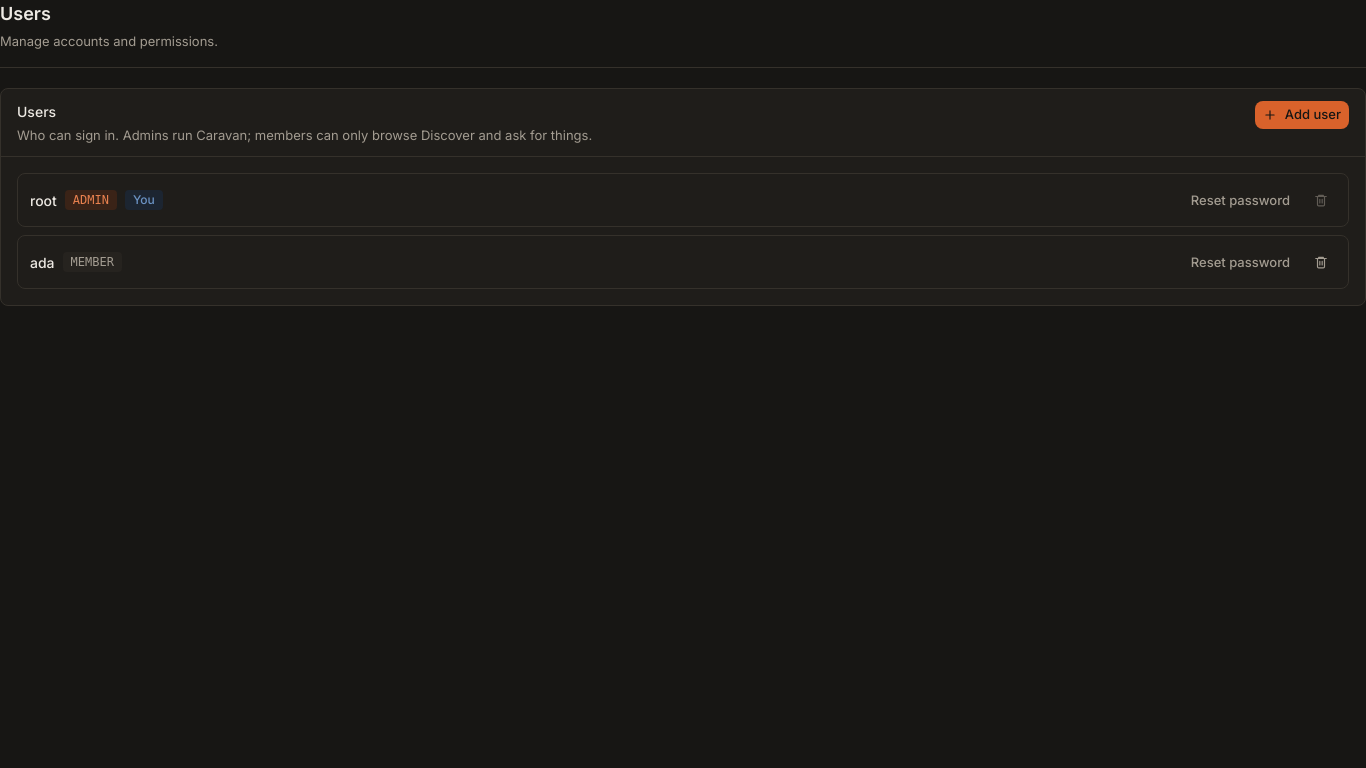
Scenario: Users settings › creates an account with a username, a password and a role
The width and height of the screenshot is (1366, 768).
Click the button "Add user" at (1302, 115), box left=1255, top=101, right=1349, bottom=129
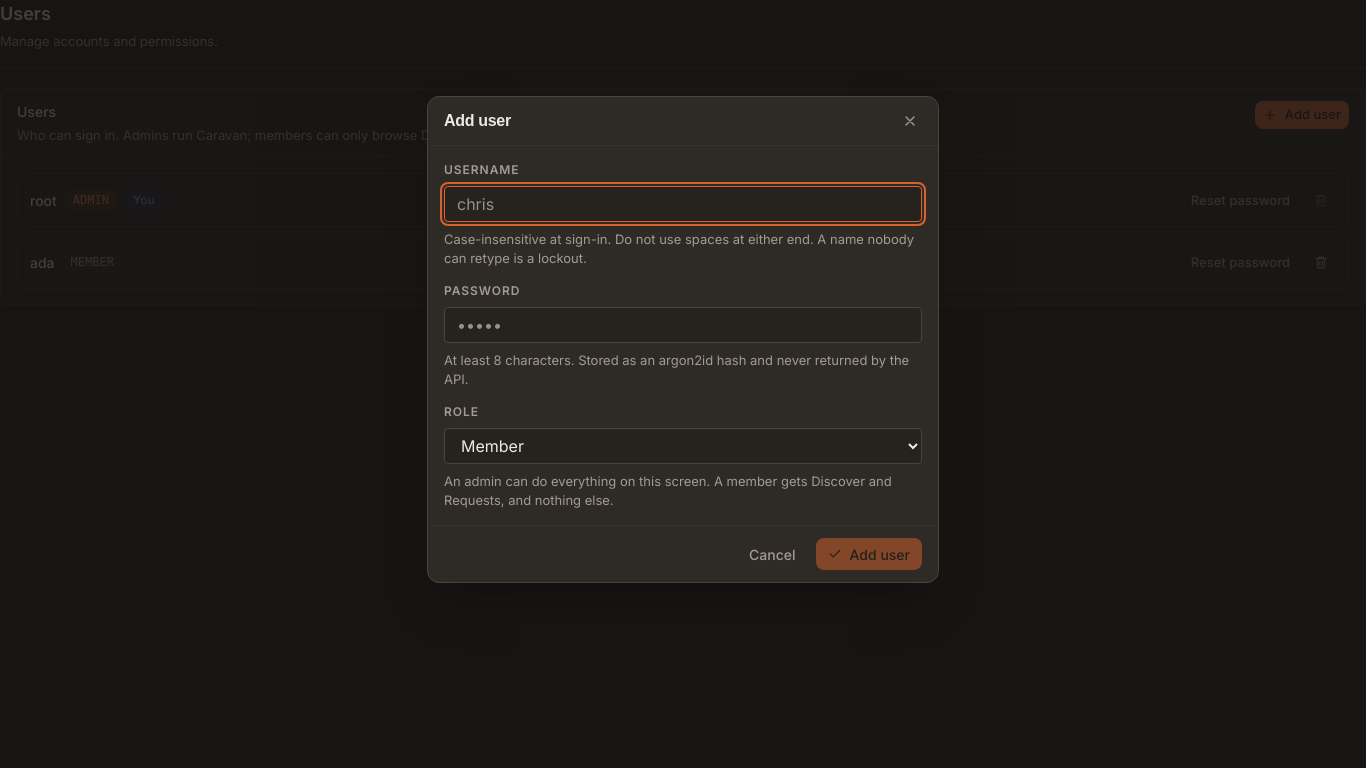
Now the field with id "user-username" is shown
Type "sam" into the field with id "user-username" at (683, 204), box left=444, top=186, right=922, bottom=222
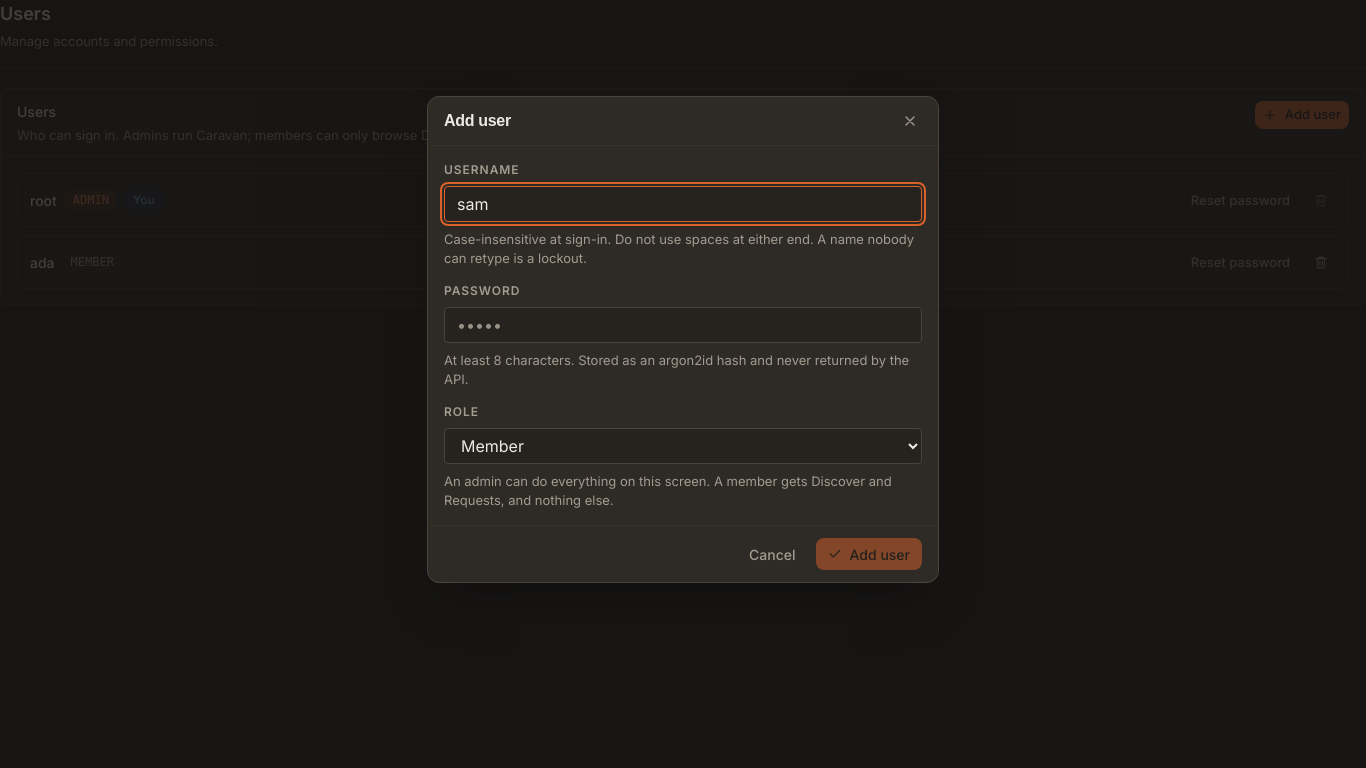
Now the password field with id "user-password" is shown
Type "short" into the password field with id "user-password" at (683, 325), box left=444, top=307, right=922, bottom=343
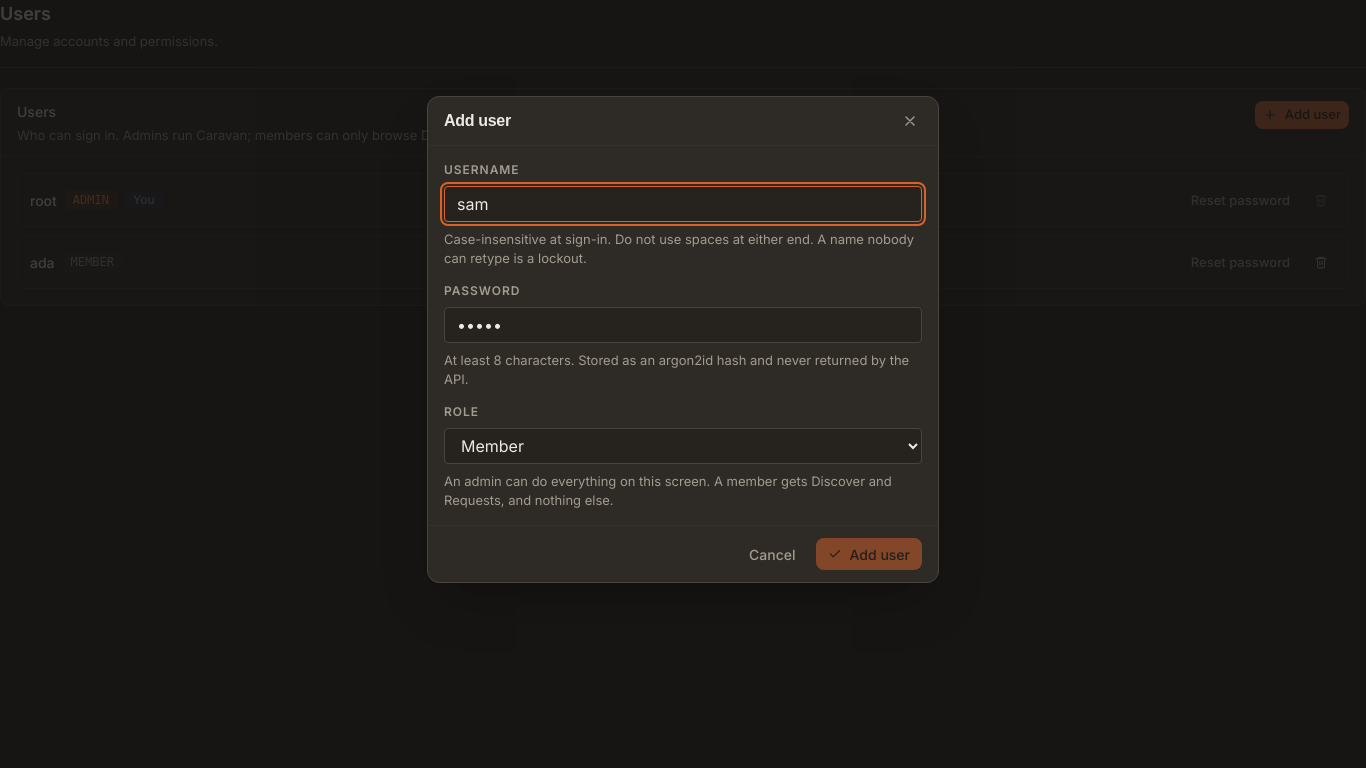
Now the dialog is shown, box left=427, top=96, right=939, bottom=583
Now the button "Add user" is disabled, box left=816, top=538, right=922, bottom=570
Type "a good password" into the password field with id "user-password" at (683, 325), box left=444, top=307, right=922, bottom=343
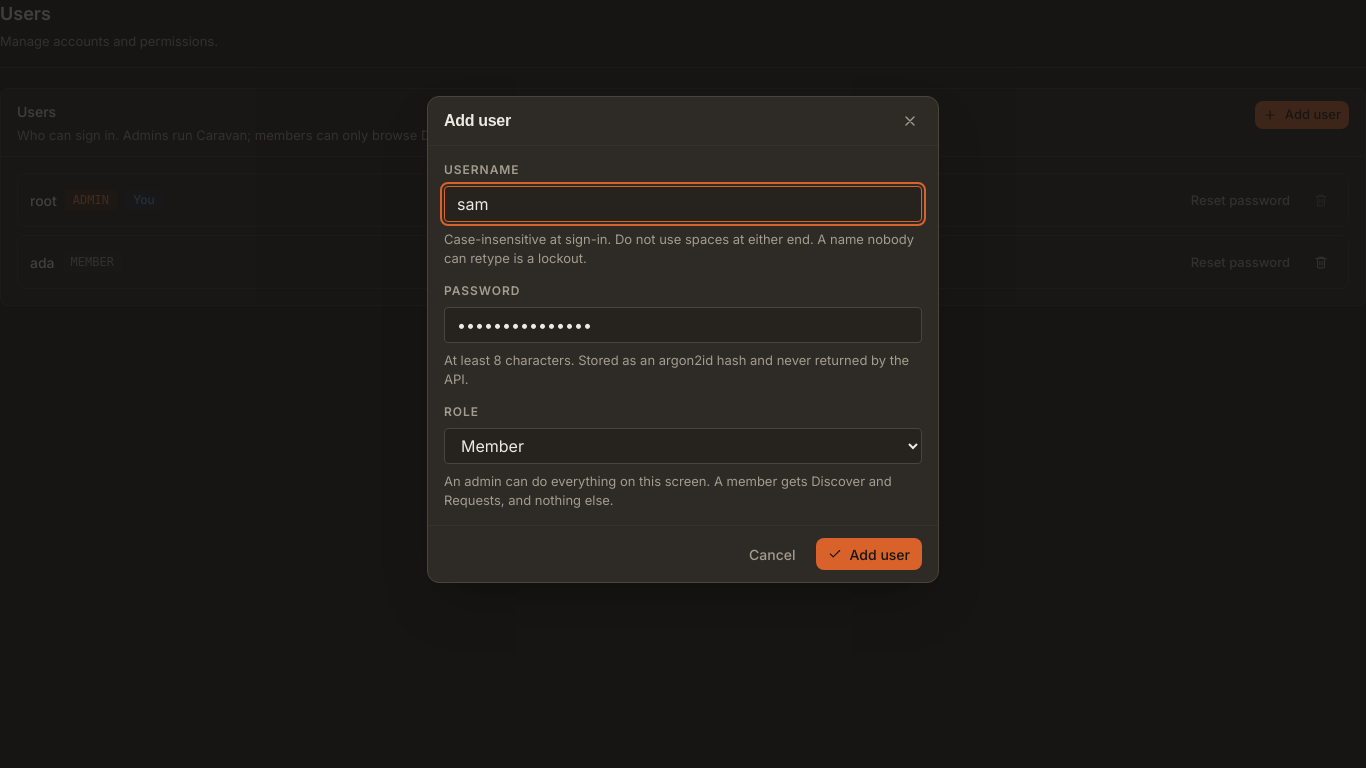
Select "Admin" in the dropdown with id "user-role" at (683, 446), box left=444, top=428, right=922, bottom=464
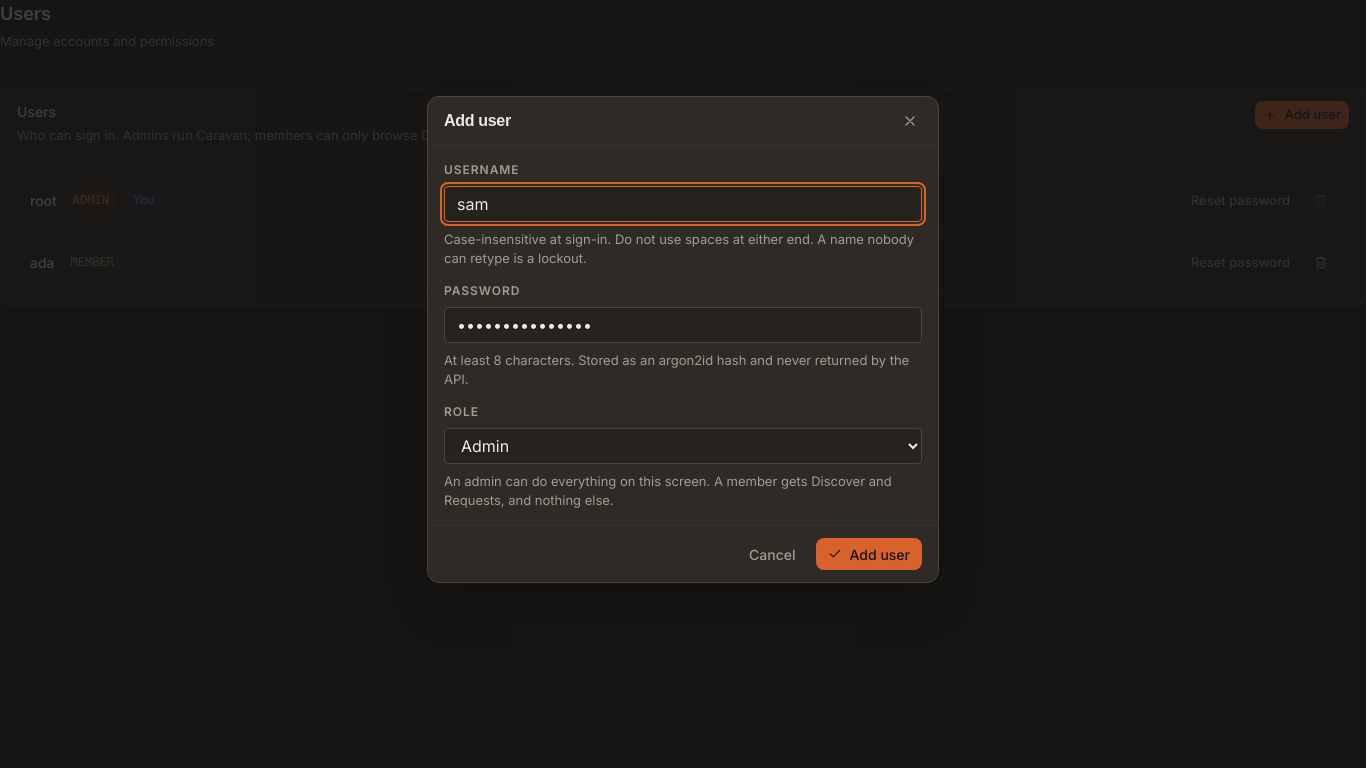
Now the dialog is shown, box left=427, top=96, right=939, bottom=583
Now the button "Add user" is shown
Click the button "Add user" at (869, 554), box left=816, top=538, right=922, bottom=570
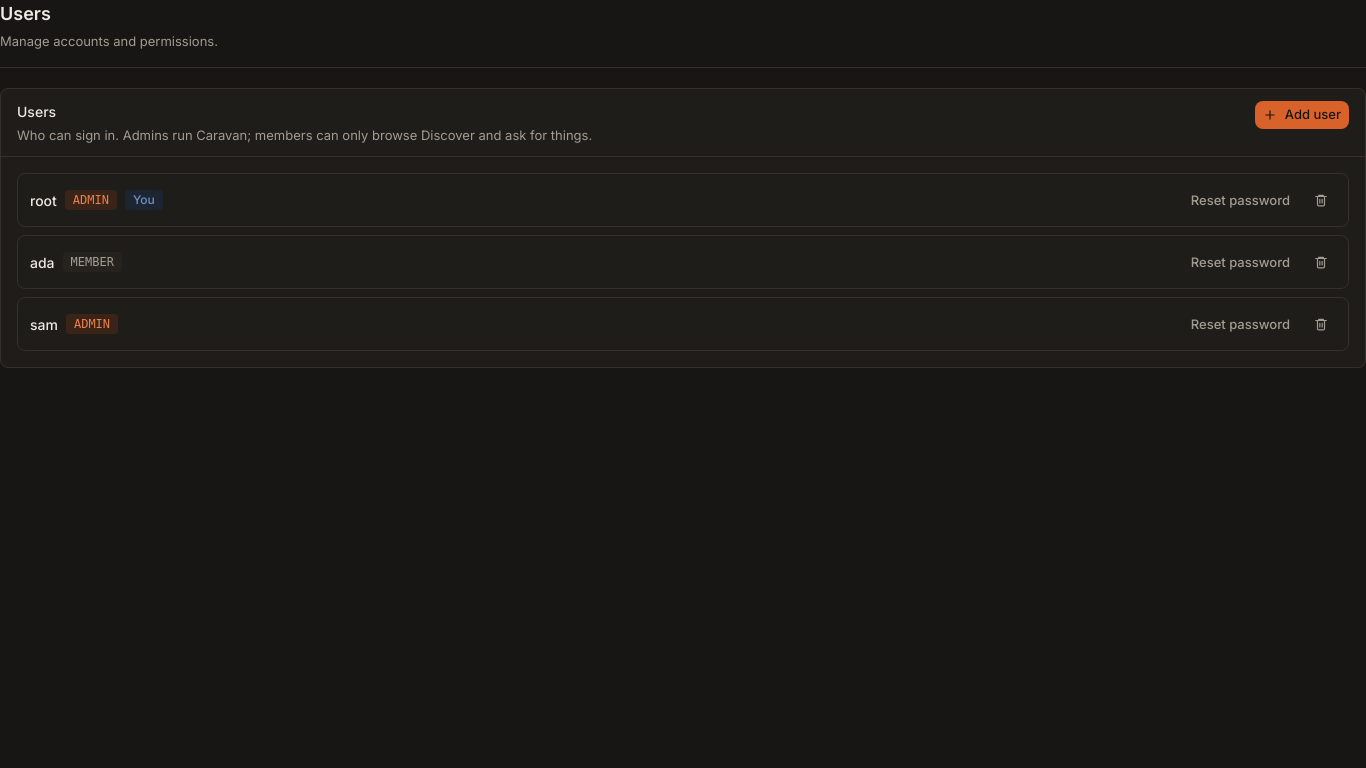
Now the dialog is gone
